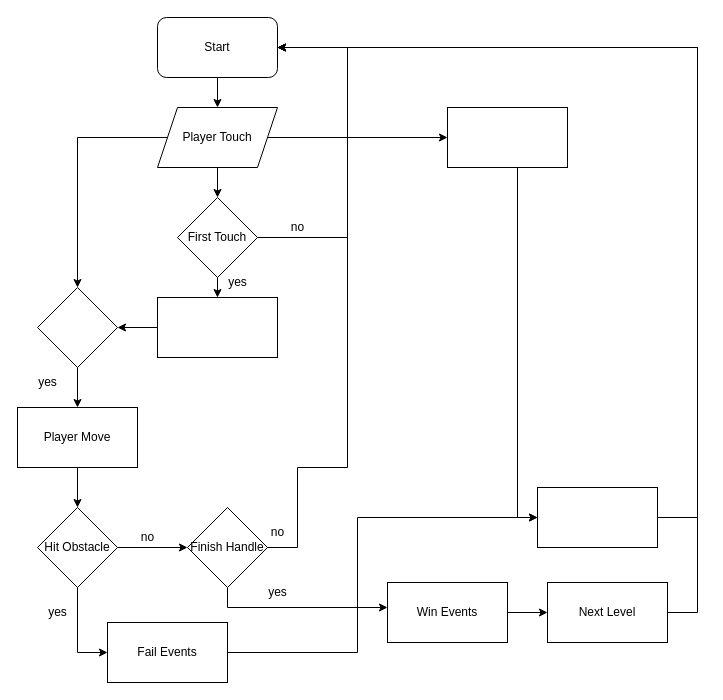
The diagram is 723 pixels wide and 700 high, and some of its shapes have lost their labels. The shapes that lost their labels are listed below. From the top down, each one's box as (x1, y1, x2, y2) in pixels, then its label:
(446, 106, 568, 168): Restart button
(36, 286, 118, 368): Hit Handle
(156, 296, 278, 358): Start Events
(536, 486, 658, 548): Restart Scene
